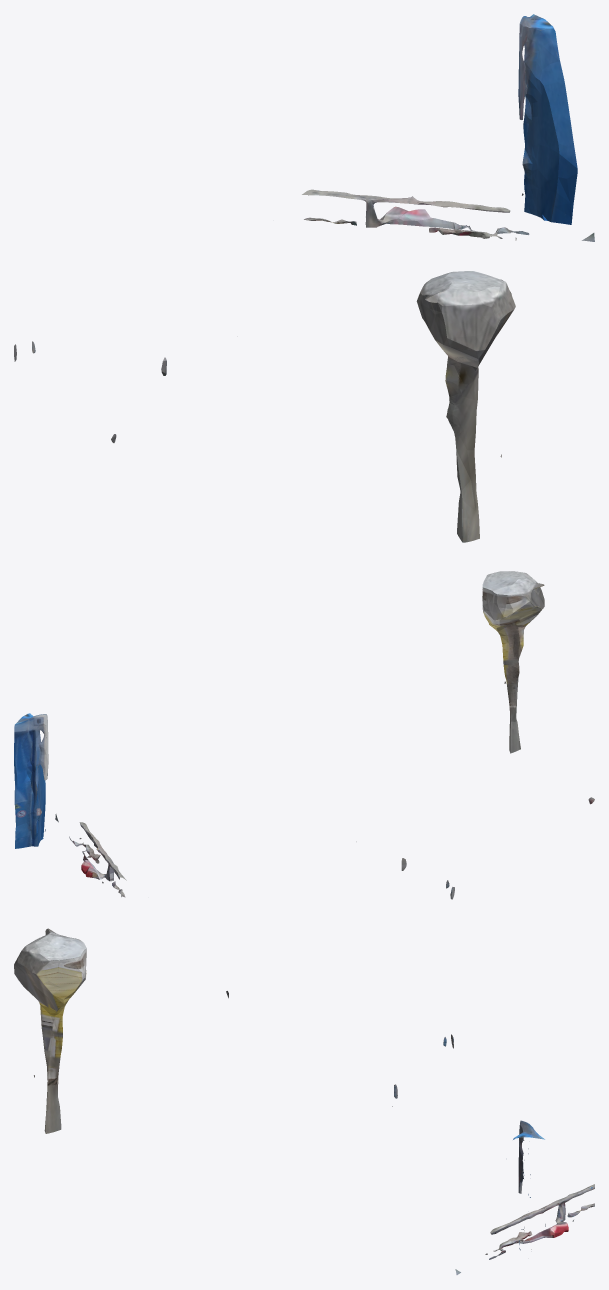
3 renders of one model, top to bottom at view 1: azimuth 30°, elevation 25°; view 2: azimuth 150°, elevation 25°; view 3: azimuth 270°, elevation 25°, orthographic. The views are drawn at different scales.
Bounding box in the file's own units: 6.46 × 2.48 × 6.87.
1 material, 1 textured.
